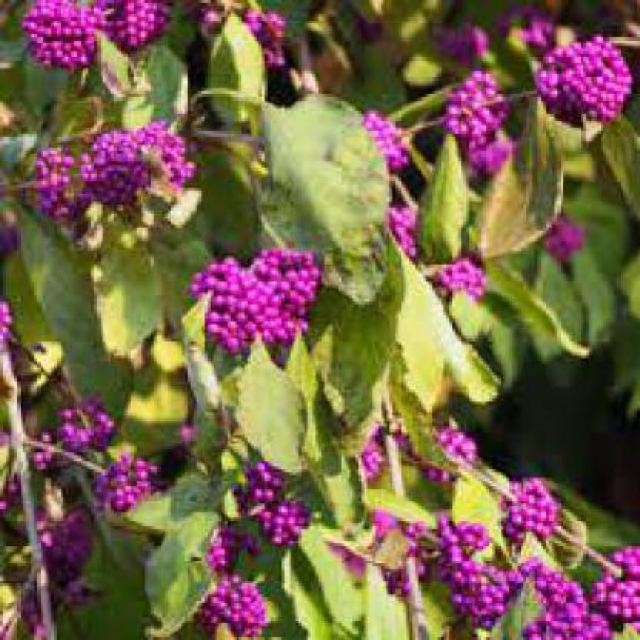flower: (18, 111, 195, 217), (406, 517, 542, 623), (213, 246, 322, 352), (199, 554, 279, 638), (543, 42, 620, 123), (448, 68, 502, 182), (480, 474, 566, 544), (21, 4, 102, 64), (356, 98, 401, 178), (430, 263, 495, 303)
